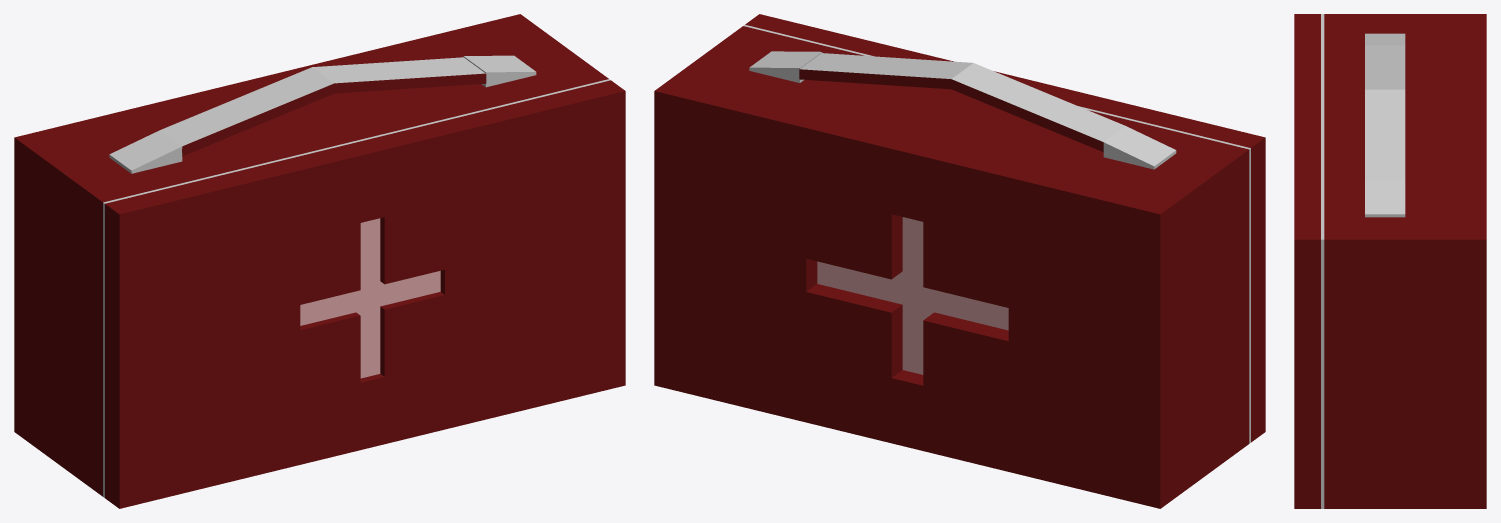
Rendered from Health Box.fbx.
3 renders of one model, left to right at view 1: azimuth 30°, elevation 25°; view 2: azimuth 150°, elevation 25°; view 3: azimuth 270°, elevation 25°, orthographic. The views are drawn at different scales.
Visible parts, largest first — view 1: health; view 2: health; view 3: health.
Boxes of the visible parts, bbox=[...] form: health: bbox=[14, 14, 625, 508]; health: bbox=[654, 14, 1265, 508]; health: bbox=[1294, 14, 1486, 508].
Size of the model in its own units: 360 by 228 by 129.
